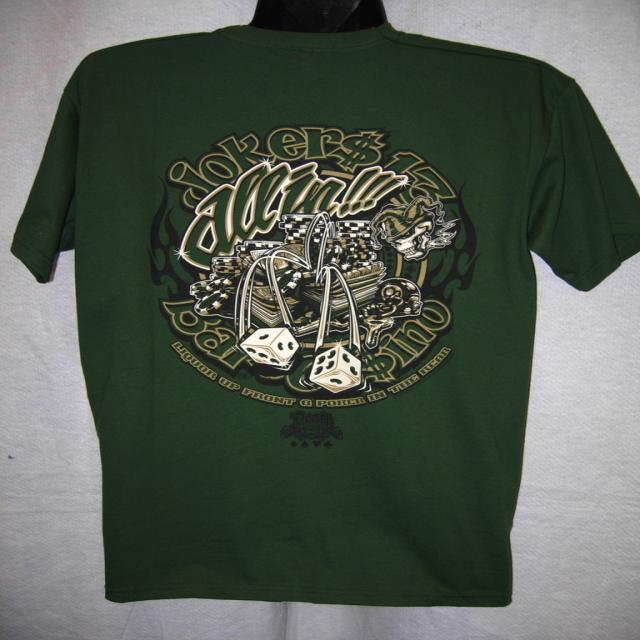T-shirt: (10, 27, 640, 611)
